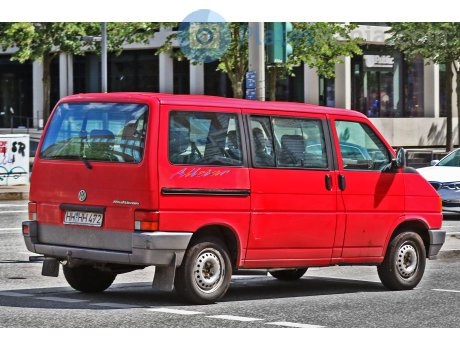License Plates: (66, 212, 98, 220)
